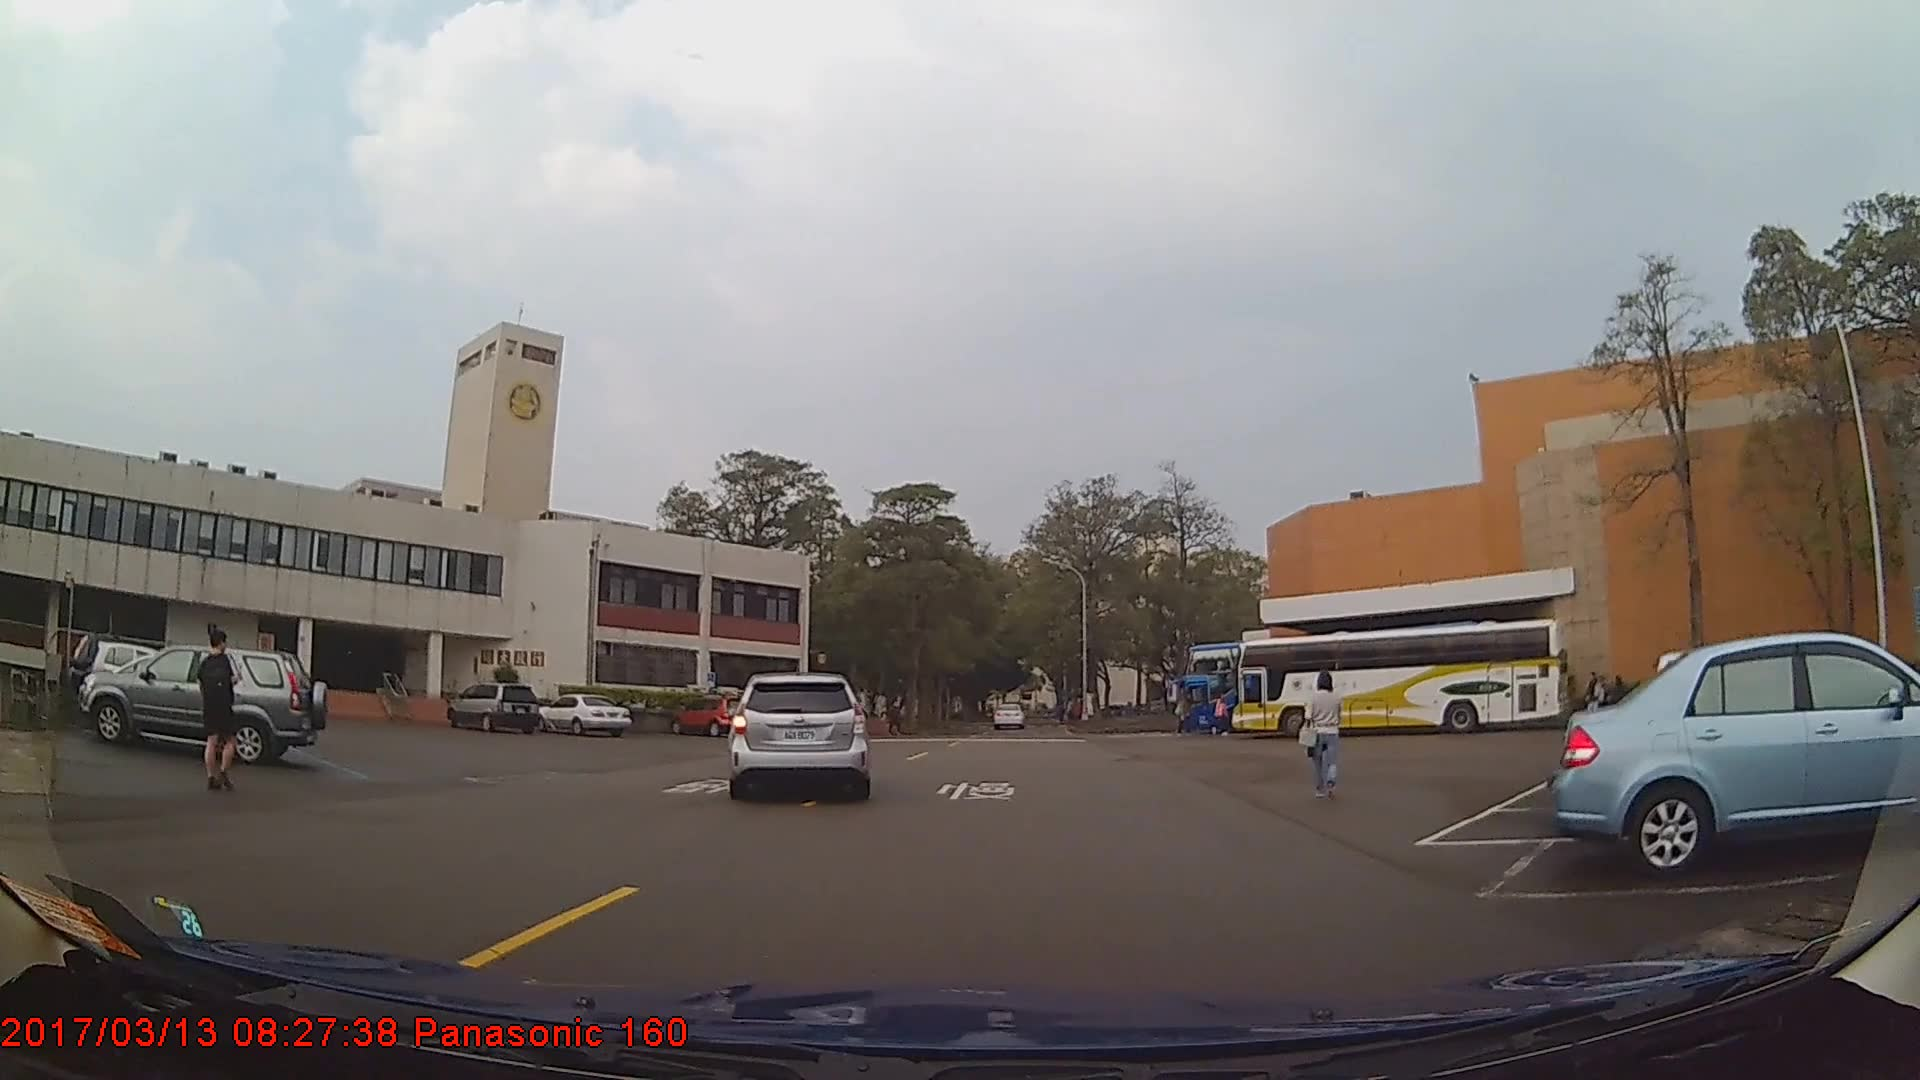pedestrian: (193, 628, 245, 792), (1298, 671, 1345, 799)
vehicle: (1555, 628, 1920, 882), (1230, 616, 1567, 741), (81, 644, 330, 766), (1177, 643, 1451, 735), (730, 670, 867, 799), (447, 683, 540, 736), (533, 693, 633, 739), (669, 694, 751, 737), (993, 703, 1025, 730)
